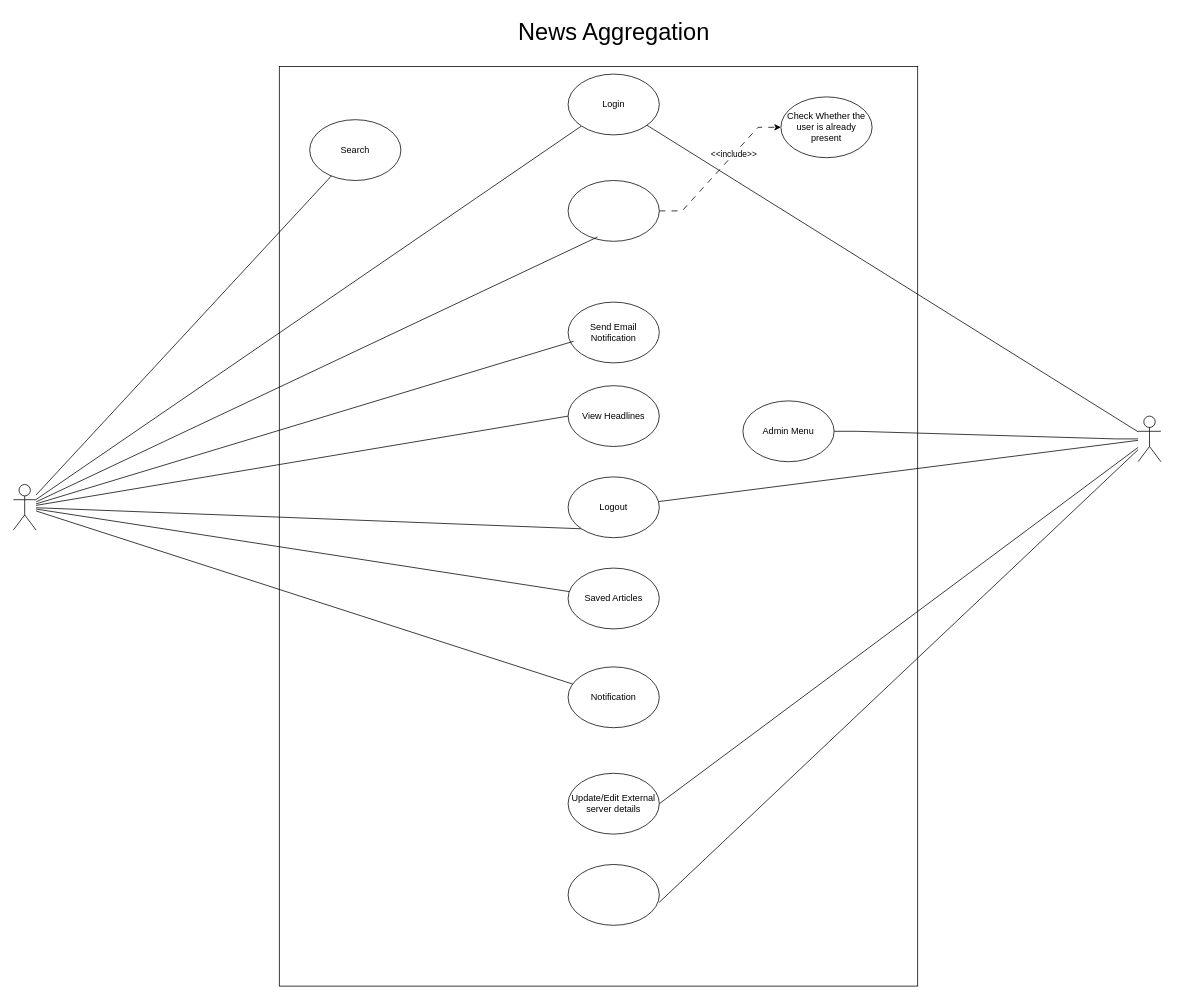
This 1186x999 diagram has some shape labels left out. Each missing label, with the centre of its shape:
Add new news category: the point at 613,894
Admin User: the point at 1149,438
SignUp: the point at 613,210
User: the point at 24,507
